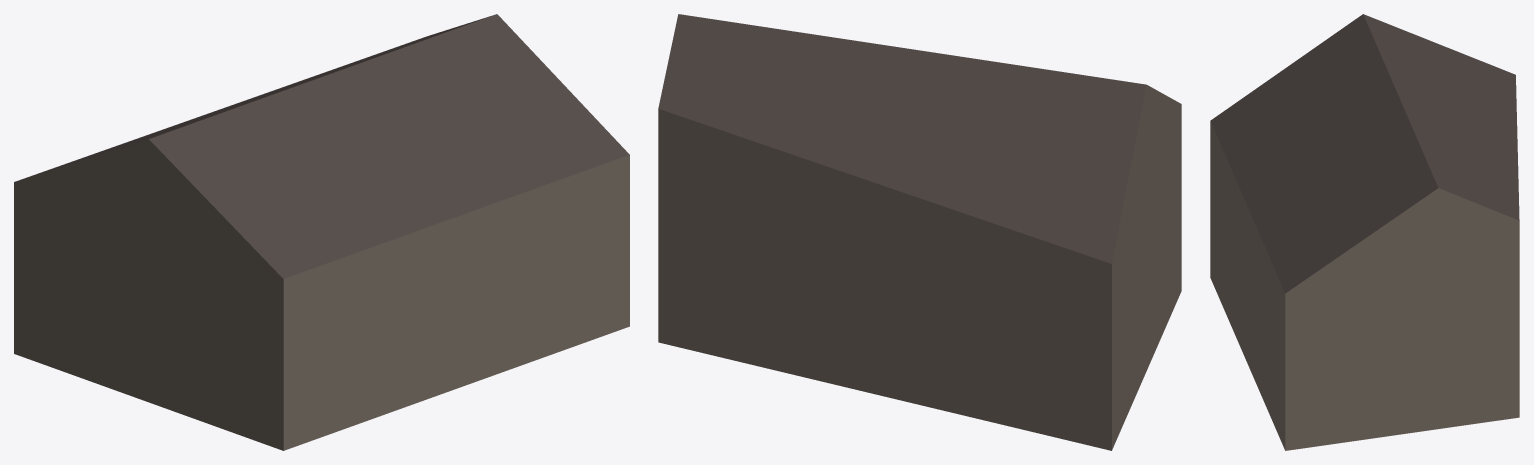
3 views of the same model, side by side, from view 1: azimuth 30°, elevation 25°; view 2: azimuth 150°, elevation 25°; view 3: azimuth 270°, elevation 25° (orthographic). The views are drawn at different scales.
Parts seen in each view (by area): view 1: HP-w495101833; view 2: HP-w495101833; view 3: HP-w495101833.
Part boxes in pixels (bbox=[...]): HP-w495101833: bbox=[14, 14, 629, 450]; HP-w495101833: bbox=[658, 14, 1181, 450]; HP-w495101833: bbox=[1210, 14, 1519, 450].
Bounding box in the file's own units: 26.84 × 13.79 × 16.02.
